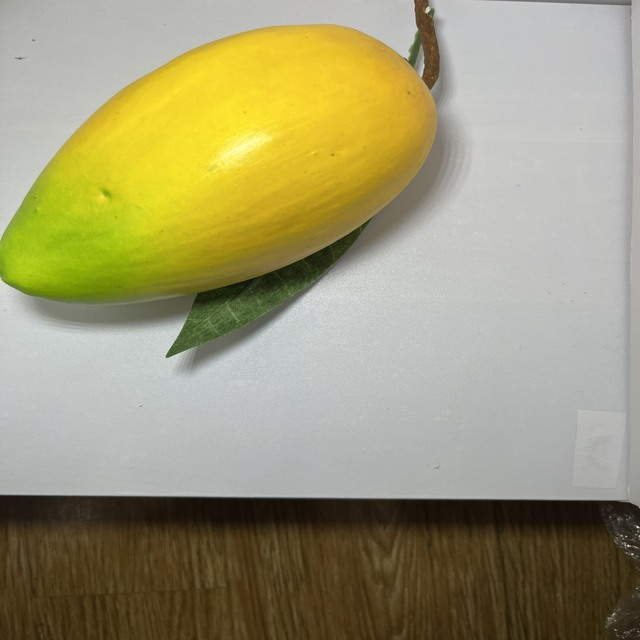Xoai: (0, 0, 453, 335)
